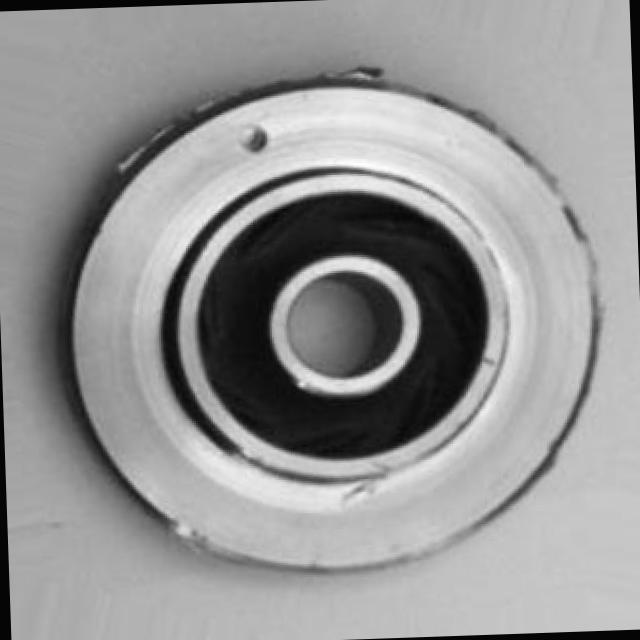Defect: (235, 121, 276, 159)
